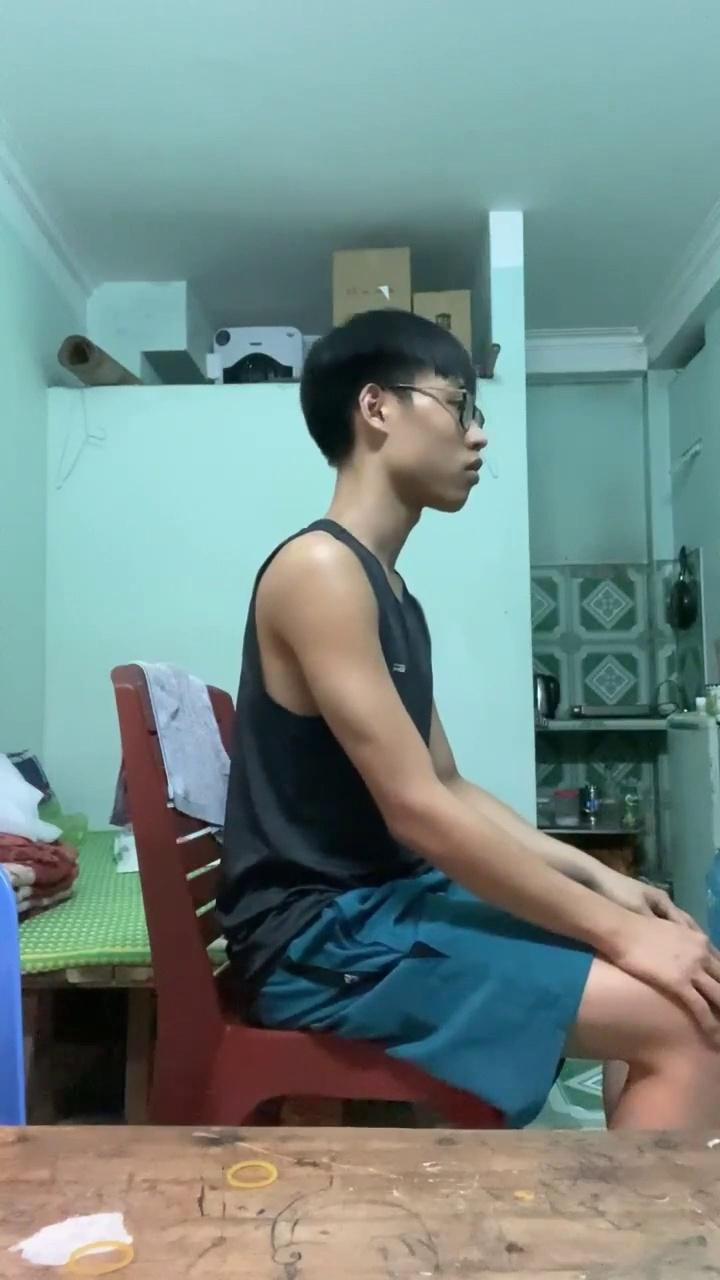GoodPosture: (217, 309, 719, 1128)
